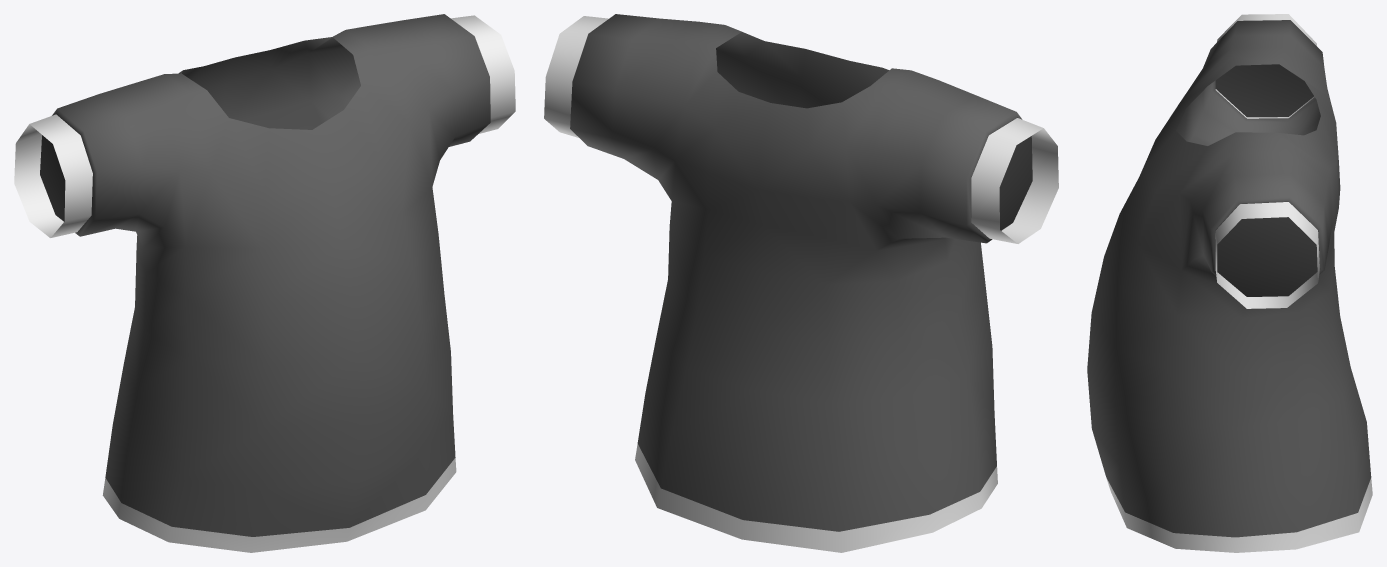
File: Outerwear_Black_016.glb
3 views of the same model, side by side, from view 1: azimuth 30°, elevation 25°; view 2: azimuth 150°, elevation 25°; view 3: azimuth 270°, elevation 25° (orthographic). The views are drawn at different scales.
Parts seen in each view (by area): view 1: Outerwear_Black_016; view 2: Outerwear_Black_016; view 3: Outerwear_Black_016.
Boxes of the visible parts, x1,y1,x2,y2 form: Outerwear_Black_016: (14, 14, 515, 552); Outerwear_Black_016: (544, 14, 1058, 552); Outerwear_Black_016: (1087, 14, 1372, 552).
Size of the model in its own units: 0.6893 by 0.6211 by 0.4041.
1 material, 1 textured.
